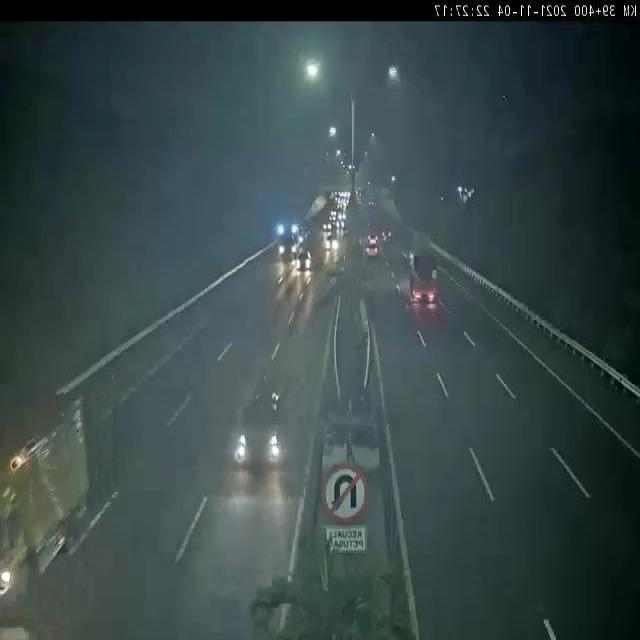Truck: (0, 395, 88, 622)
Van: (233, 390, 286, 472)
